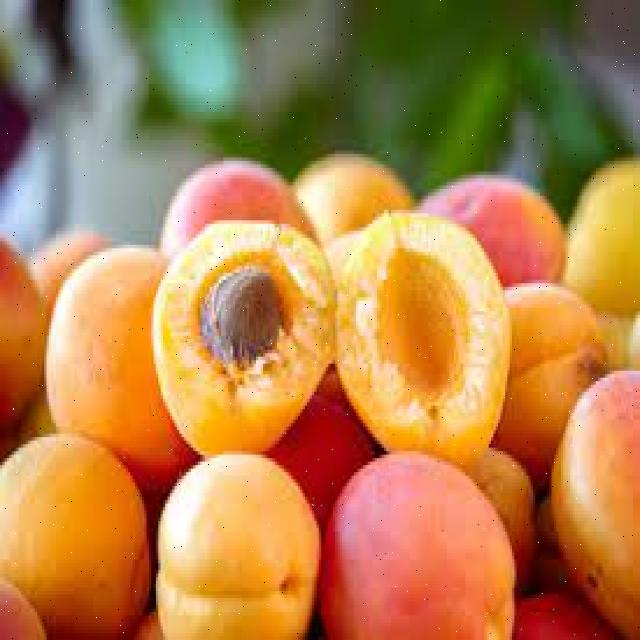cekirdek: (182, 248, 300, 372)
kayisi: (144, 203, 525, 462)
